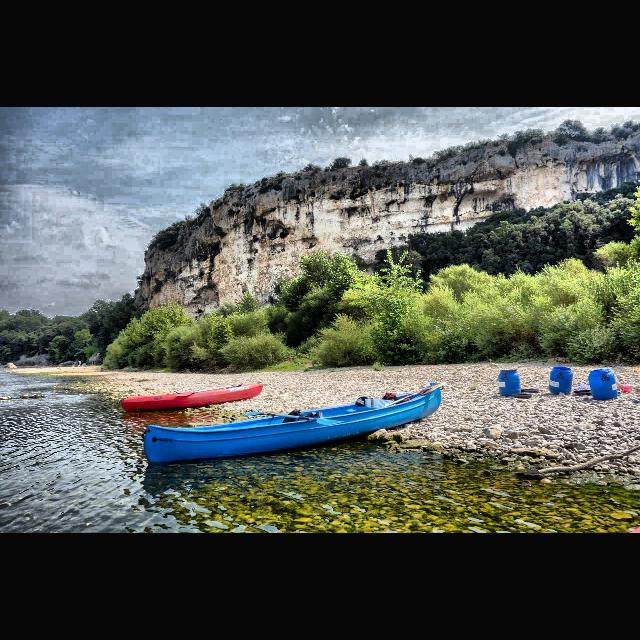kayak: (142, 380, 442, 468), (119, 381, 263, 413)
